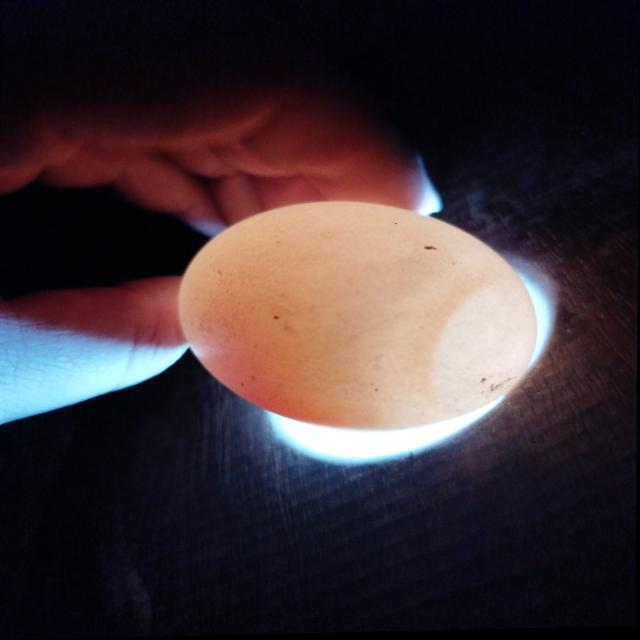Camara de Ar: (432, 276, 538, 415)
Gema Quebrada: (202, 319, 336, 429)
